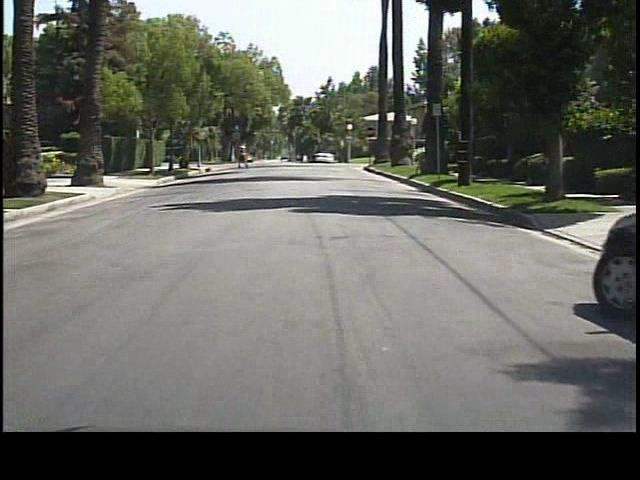person: (235, 139, 251, 170)
